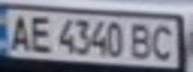0: (106, 19, 130, 58)
3: (72, 17, 93, 56)
4: (51, 16, 75, 55), (90, 17, 109, 56)
A: (3, 11, 36, 52)
B: (127, 20, 157, 61)
C: (148, 21, 181, 62)
E: (24, 12, 54, 54)
